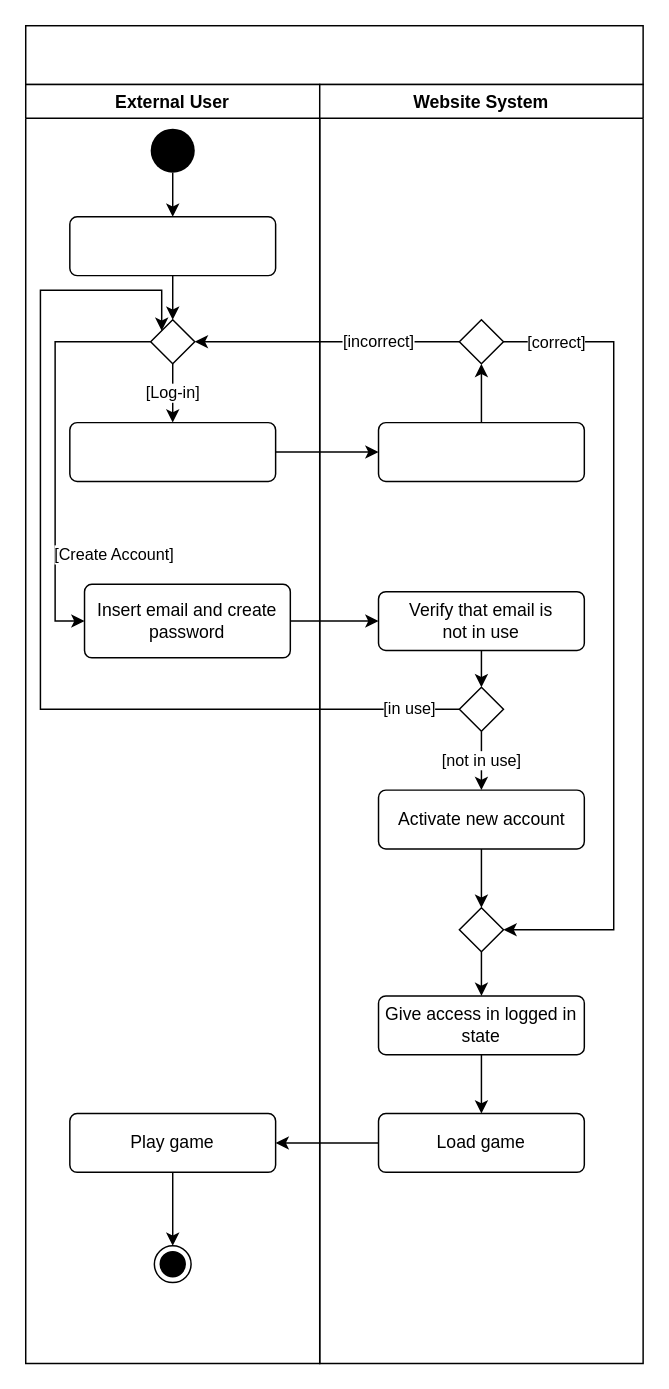
Some shapes in this 669 by 1389 pixel diagram are drawn without their labels. The shapes that lost their labels are listed below. From the top down, each one's centre as x and y in pixels, then its label:
At (x=333, y=54): "ACTIVITY DIAGRAM. Use Case of System: Movimiento STEAM Challenge".
At (x=172, y=245): "Access website".
At (x=172, y=451): "Insert log-in details".
At (x=480, y=451): "Verify log-in details".
